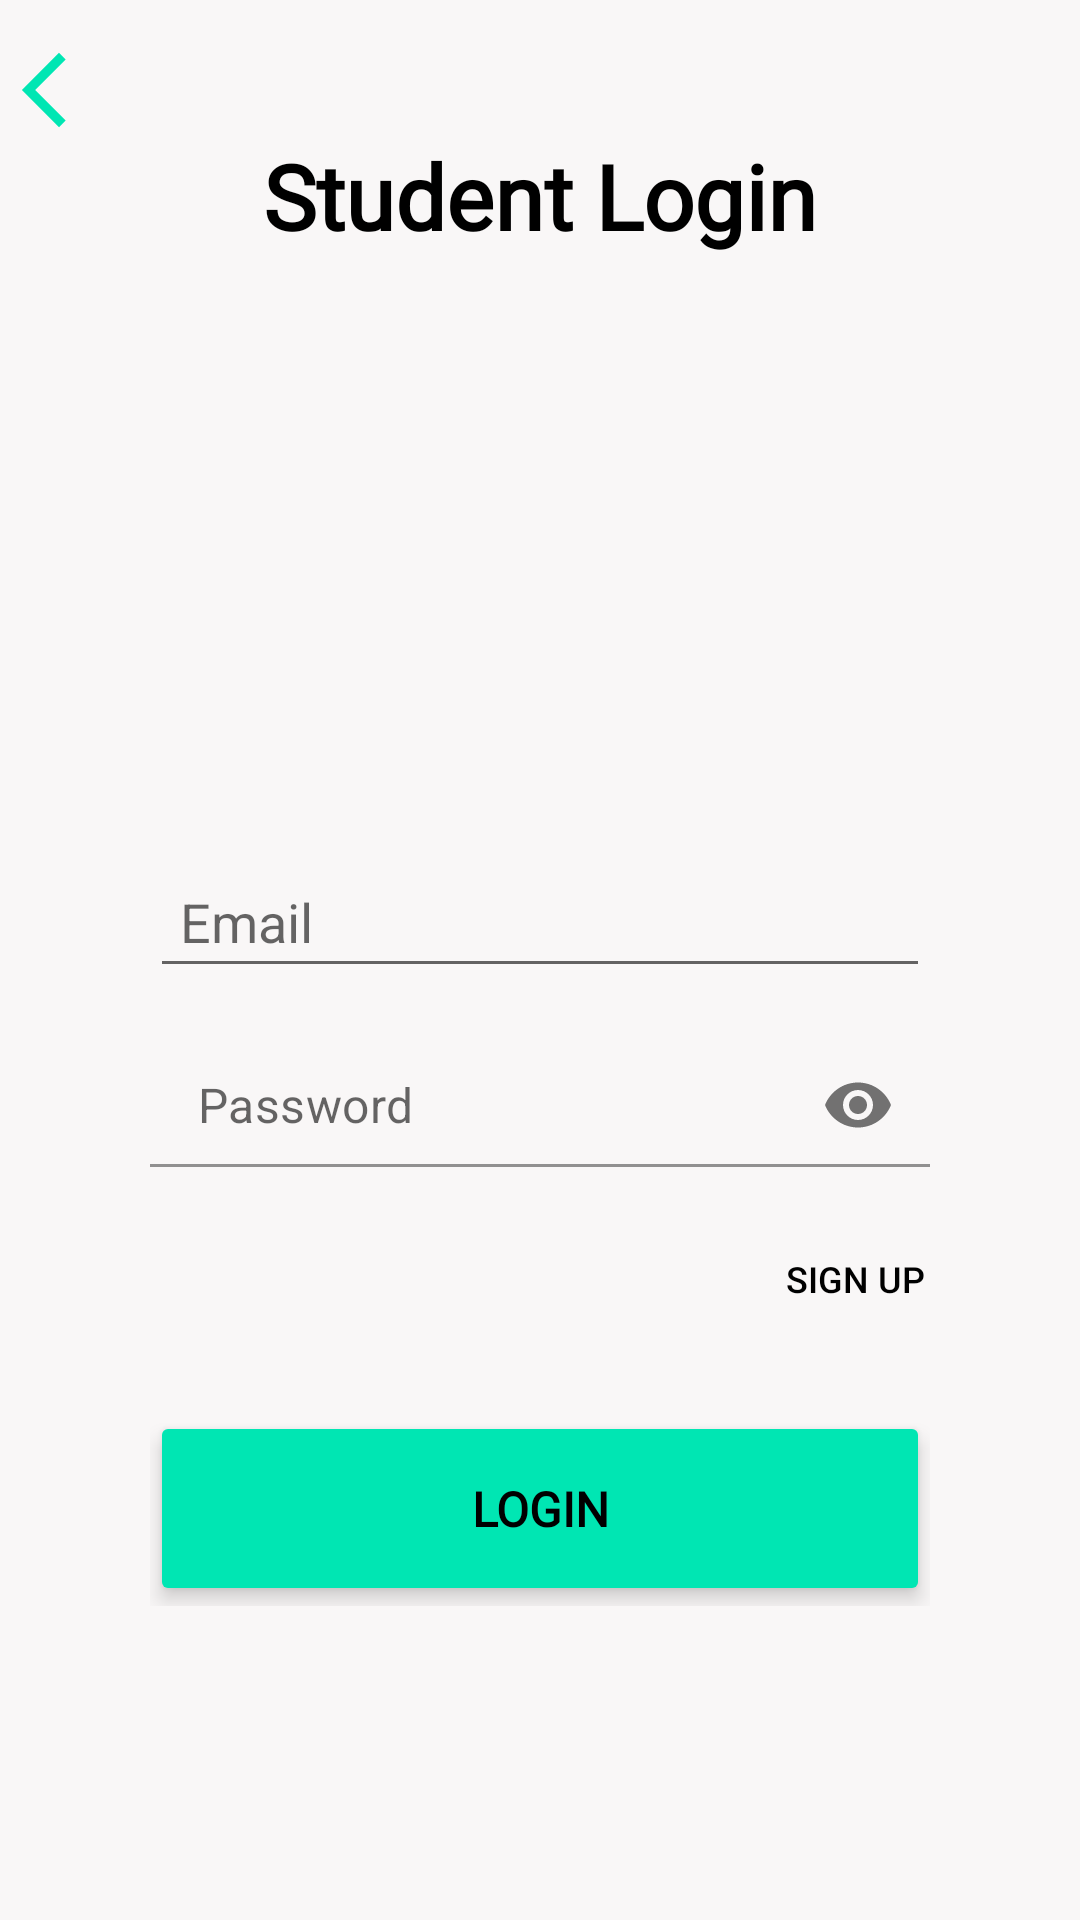

Icons on this 1080x1920 Android screen, each with its box as (x1, y1, x2, y2):
arrow back: (22, 53, 66, 127)
